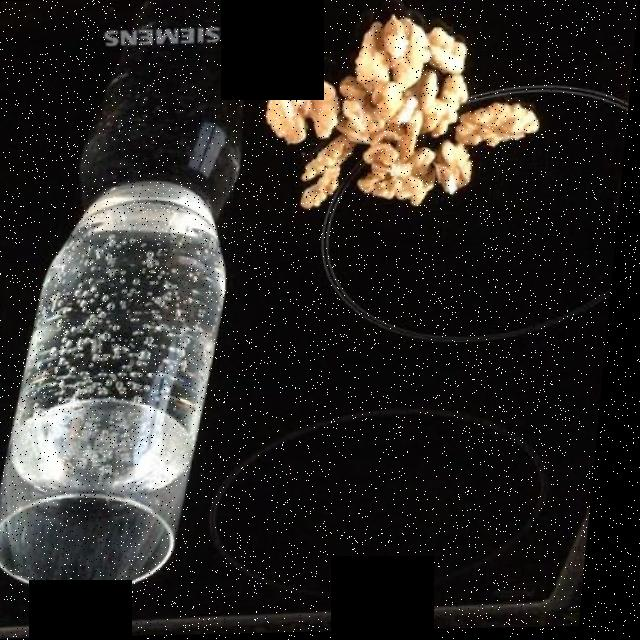walnut: (277, 12, 531, 199)
water-mineral: (19, 208, 231, 443)
